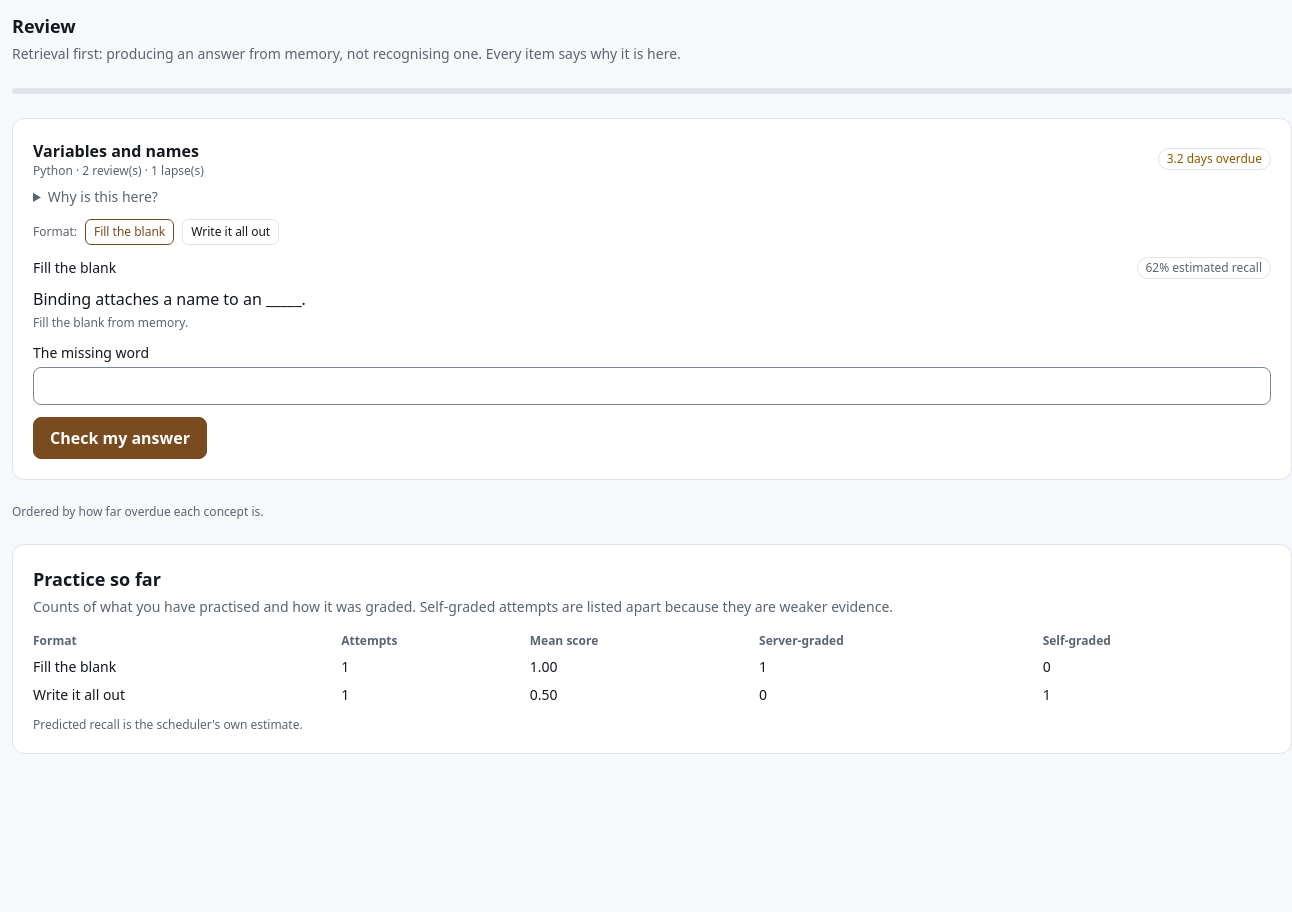
ReviewPage — answering › submits the typed answer and reports the result with the next review date
Type "object" into the field labelled "The missing word" at (652, 386), box 33,367 -> 1271,405
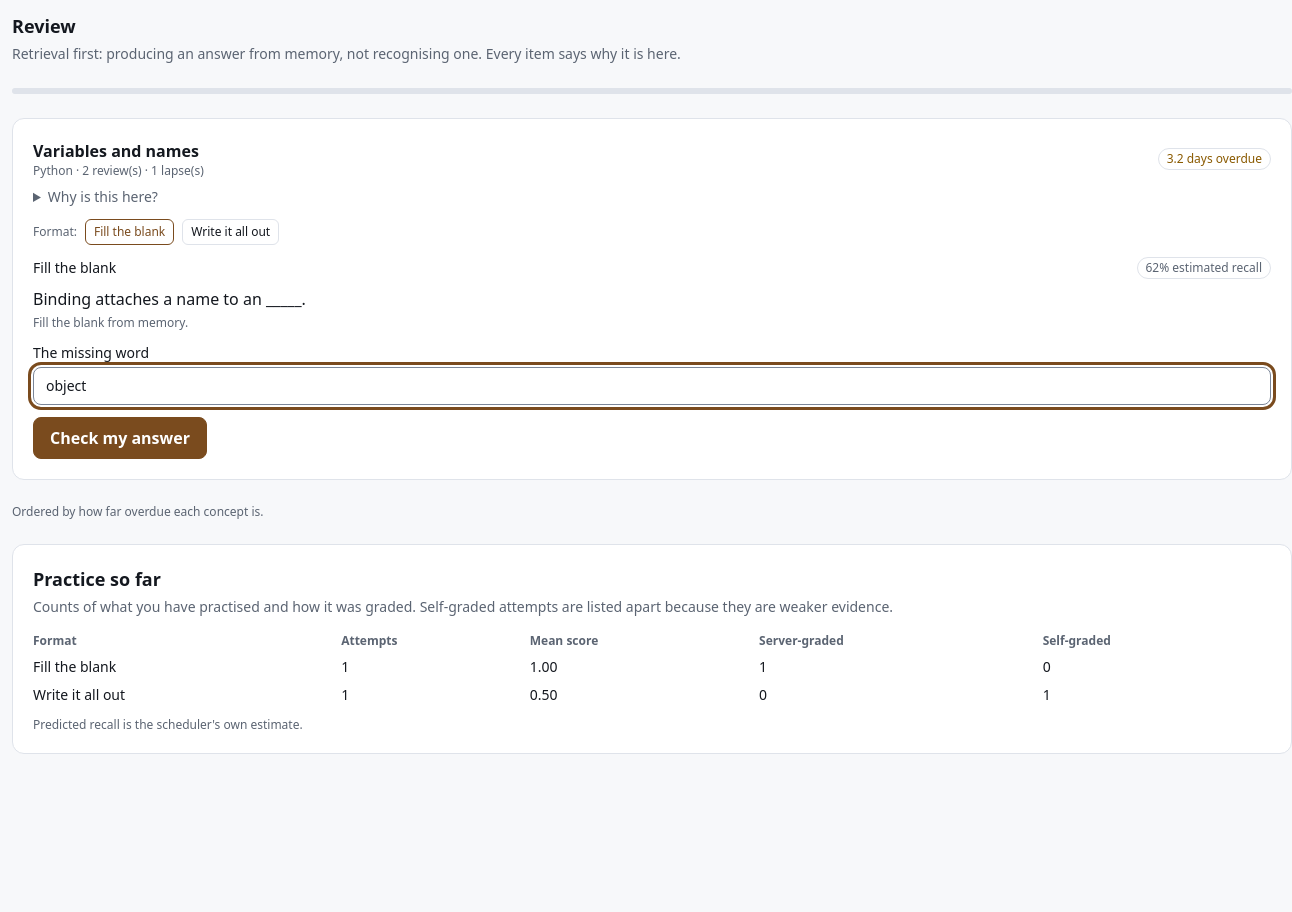
Click the button "Check my answer" at (120, 438), box 33,417 -> 207,459
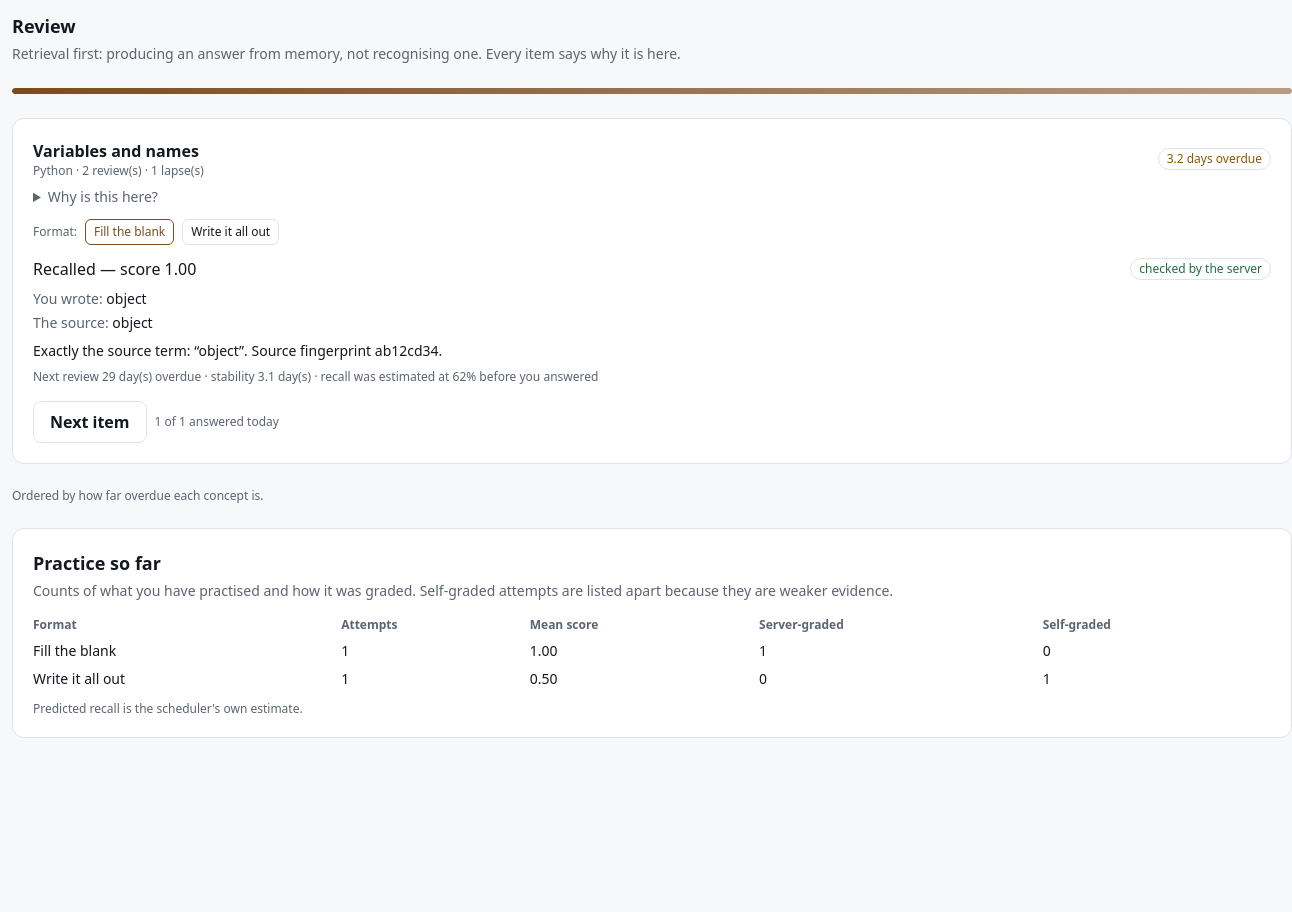
Now the text "Recalled — score 1.00" is shown, box 33,257 -> 196,281
Now the text "The source:" is shown, box 33,313 -> 112,332
Now the text "Next review" is shown, box 33,368 -> 102,385
